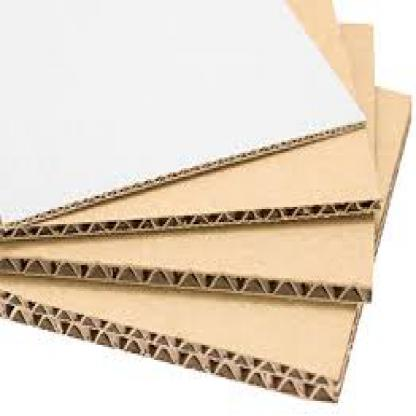CARDBOARD: (0, 86, 410, 401), (0, 19, 381, 302), (0, 0, 364, 229)
